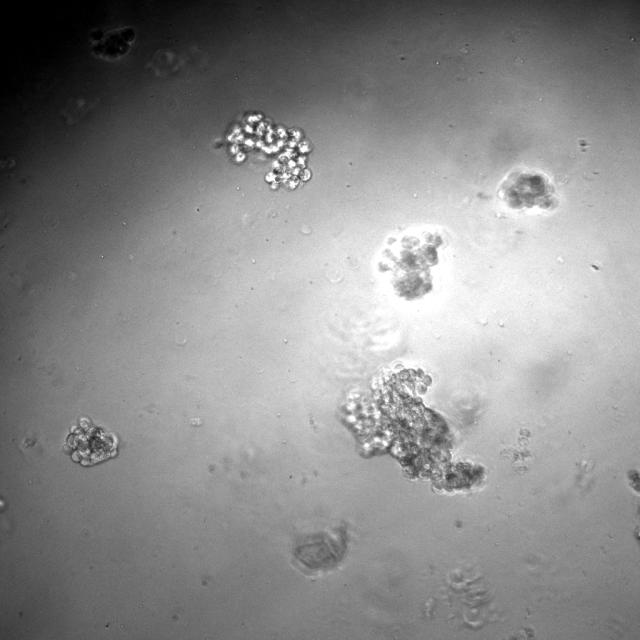organoid: (341, 363, 485, 491), (224, 111, 312, 190), (378, 231, 442, 300), (62, 416, 118, 466), (498, 168, 556, 210), (89, 27, 136, 61)
